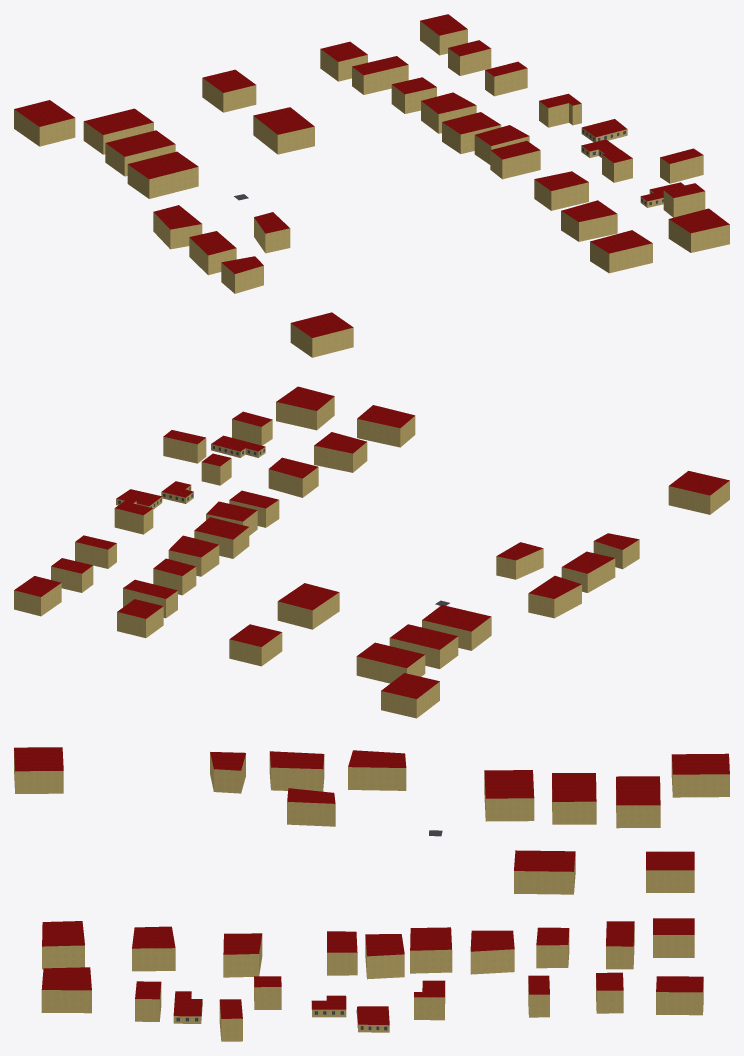
Rendered from district_-2_-1.glb.
3 views of the same model, one above another, from view 1: azimuth 30°, elevation 25°; view 2: azimuth 150°, elevation 25°; view 3: azimuth 270°, elevation 25° (orthographic). The views are drawn at different scales.
Visible parts, largest first — view 1: Building w44036513, Building w44036520, Building w44036430, Building w626614924, Building w382683836, Building w382433449, Building w44036546, Building w626614923, Building w382433448, Building w44036549, Building w382433447, Building w382433441 (+18 smaller); view 2: Building w44036520, Building w44036546, Building w44036430, Building w626614924, Building w382683836, Building w44036513, Building w382433449, Building w626614923, Building w44036549, Building w625363625, Building w382433448, Building w382433447 (+20 smaller); view 3: Building w44036520, Building w44036513, Building w626614924, Building w44036546, Building w44036430, Building w626614923, Building w382683836, Building w625363625, Building w625363626, Building w44036549, Building w382433449, Building w382433444 (+20 smaller).
Part boxes in pixels (x1,y1,x2,y2): Building w44036513: (127,151,198,198); Building w44036520: (253,107,314,154); Building w44036430: (290,312,353,357); Building w626614924: (14,100,75,146); Building w382683836: (668,208,729,252); Building w382433449: (590,230,652,273); Building w44036546: (83,108,153,154); Building w626614923: (105,130,175,176); Building w382433448: (561,200,617,241); Building w44036549: (202,69,256,112); Building w382433447: (534,171,588,210); Building w382433441: (352,56,408,94); Building w44036520: (277,583,339,629); Building w44036546: (356,642,425,683); Building w44036430: (668,471,729,514); Building w626614924: (381,673,439,718); Building w382683836: (276,386,334,430); Building w44036513: (422,605,491,650); Building w382433449: (357,405,415,447); Building w626614923: (389,624,458,668); Building w44036549: (229,624,282,666); Building w625363625: (528,575,581,618); Building w382433448: (314,432,367,472); Building w382433447: (268,457,318,497); Building w44036520: (514,850,575,894); Building w44036513: (484,770,534,821); Building w626614924: (671,753,729,797); Building w44036546: (616,776,660,828); Building w44036430: (14,747,63,793); Building w626614923: (552,773,596,824); Building w382683836: (41,967,91,1013); Building w625363625: (348,750,406,790); Building w625363626: (269,751,324,791); Building w44036549: (646,851,694,892); Building w382433449: (42,921,84,969); Building w382433444: (410,927,452,973).
Bounding box in the file's own units: 191 × 7.5 × 213.
4 materials, 4 textured.
